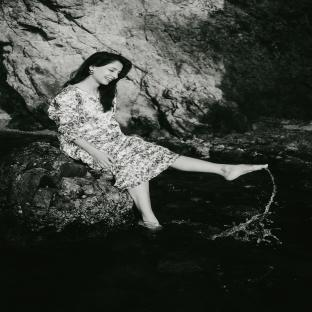Human: (48, 52, 268, 225)
